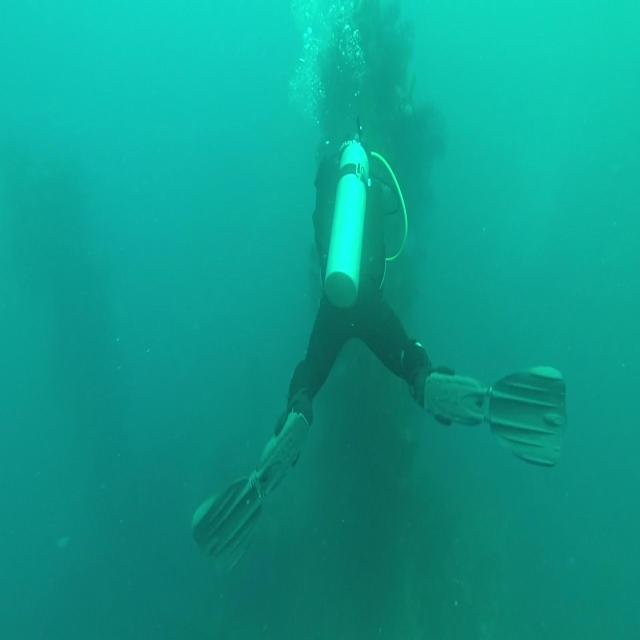human: (191, 123, 567, 572)
